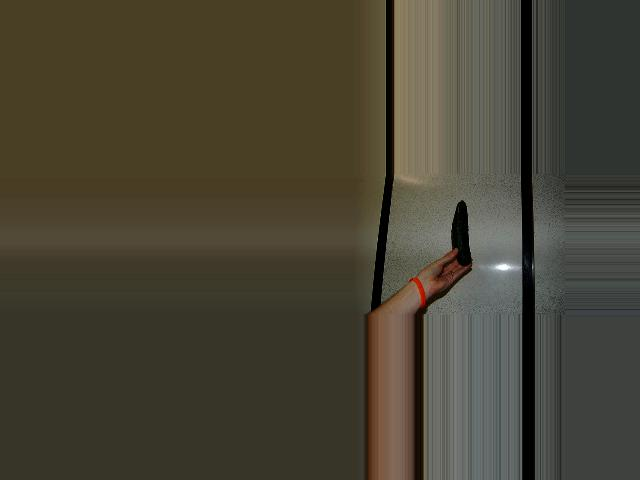cucumber: (452, 200, 471, 266)
